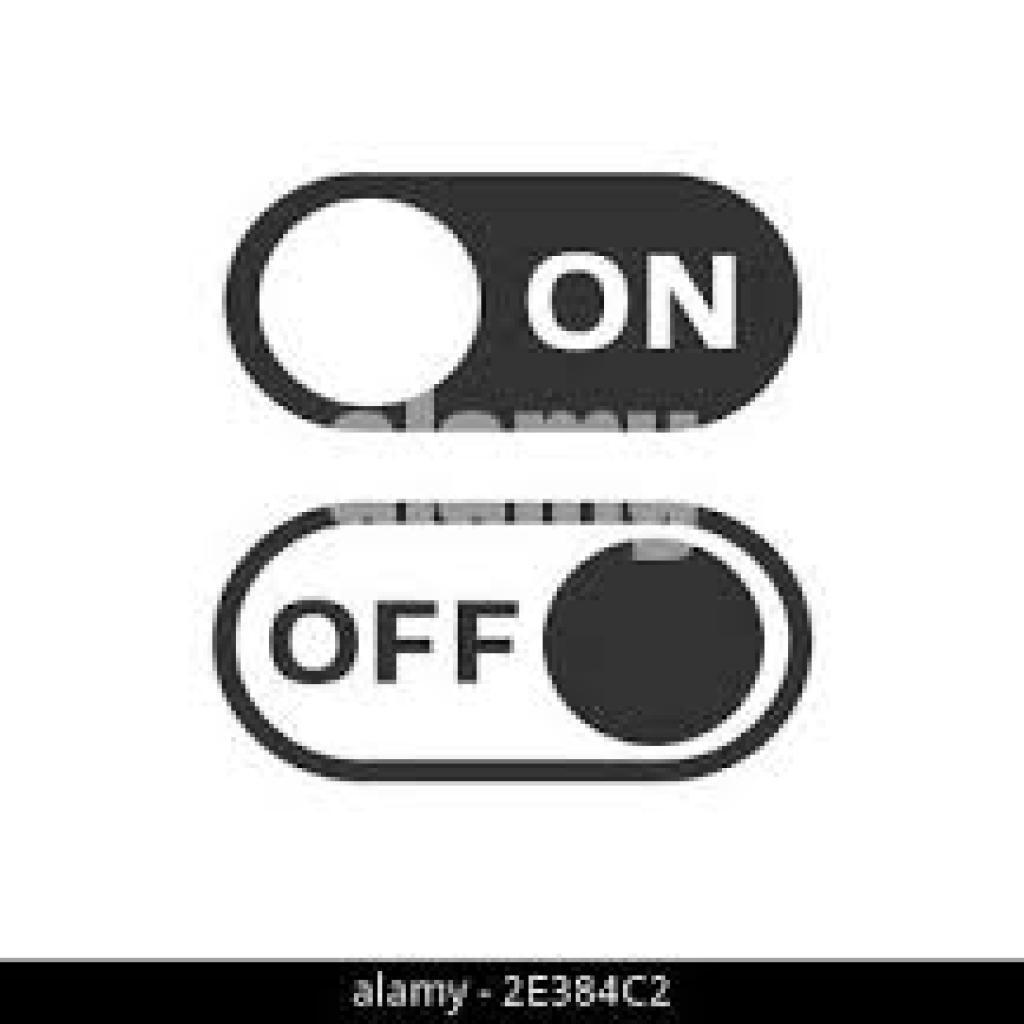switch: (203, 494, 826, 786), (218, 154, 806, 437)
